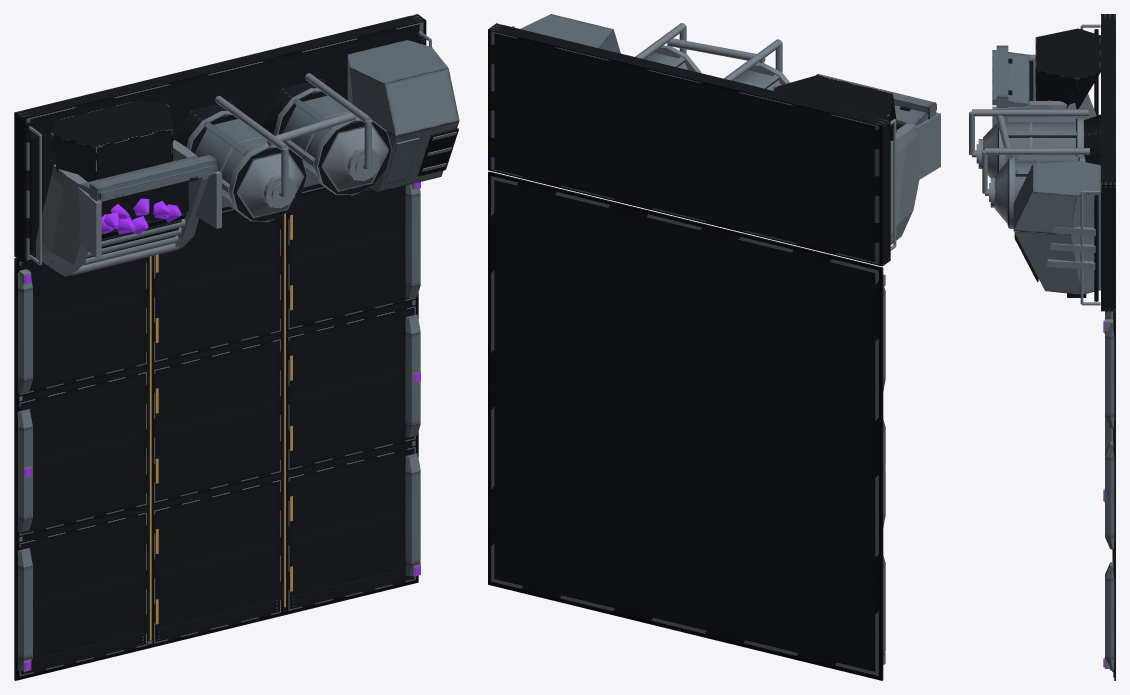
Rendered from refinery-low.glb.
The picture shows the model from 3 angles, left to right: view 1: azimuth 30°, elevation 25°; view 2: azimuth 150°, elevation 25°; view 3: azimuth 270°, elevation 25°; orthographic projection. The views are drawn at different scales.
Parts seen in each view (by area): view 1: refinery-root.001 / Ceramic graphite.001, refinery-root.001 / Brushed pale alloy.001, refinery-root.001 / Titanium edges.001, refinery-root.001 / Ore gold / optics.001, refinery-root.001 / Violet processing.001; view 2: refinery-root.001 / Ceramic graphite.001, refinery-root.001 / Titanium edges.001, refinery-root.001 / Brushed pale alloy.001; view 3: refinery-root.001 / Brushed pale alloy.001, refinery-root.001 / Ceramic graphite.001, refinery-root.001 / Titanium edges.001.
Part boxes in pixels (<box>): refinery-root.001 / Ceramic graphite.001: <box>14,14,458,680</box>; refinery-root.001 / Brushed pale alloy.001: <box>17,40,459,670</box>; refinery-root.001 / Titanium edges.001: <box>19,31,456,671</box>; refinery-root.001 / Ore gold / optics.001: <box>149,213,292,640</box>; refinery-root.001 / Violet processing.001: <box>24,182,420,670</box>; refinery-root.001 / Ceramic graphite.001: <box>488,23,910,680</box>; refinery-root.001 / Titanium edges.001: <box>512,23,940,664</box>; refinery-root.001 / Brushed pale alloy.001: <box>520,14,936,662</box>; refinery-root.001 / Brushed pale alloy.001: <box>992,45,1114,670</box>; refinery-root.001 / Ceramic graphite.001: <box>998,14,1115,680</box>; refinery-root.001 / Titanium edges.001: <box>969,24,1113,668</box>.
Bounding box in the file's own units: 12 × 16.15 × 4.34.
Materials: 6 (2 with a texture image).
